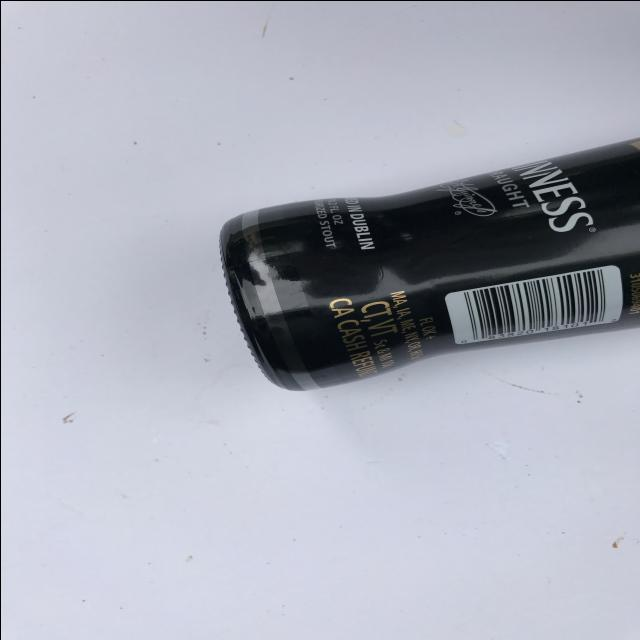glass: (215, 131, 640, 390)
